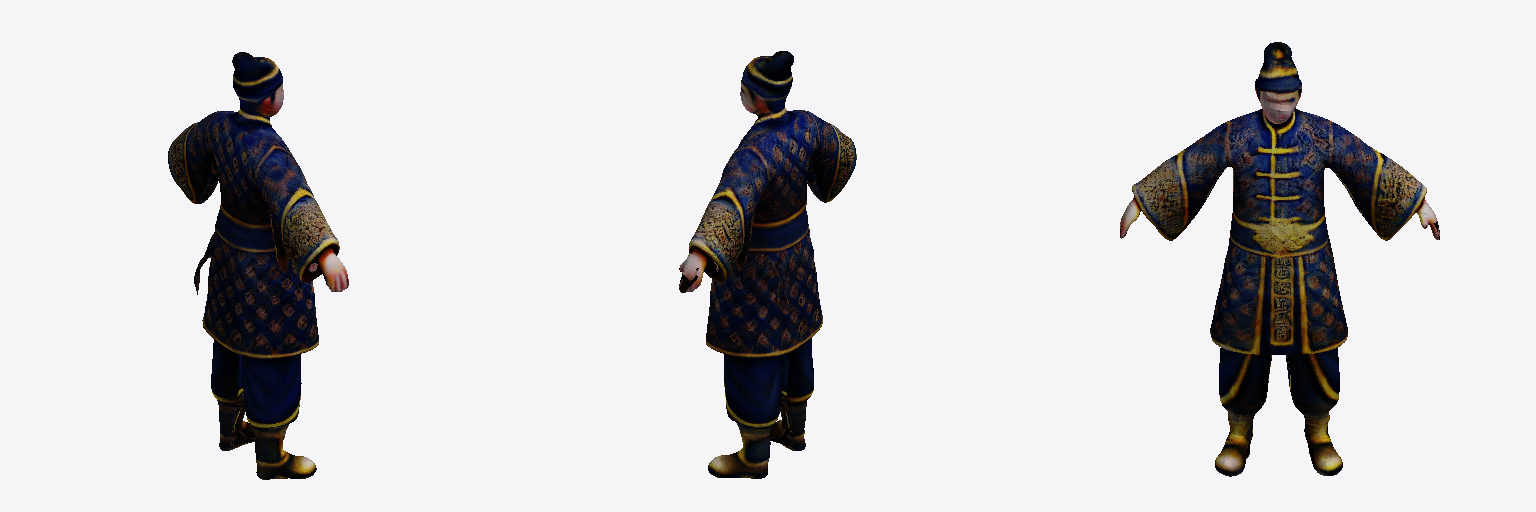
The picture shows the model from 3 angles: view 1: azimuth 30°, elevation 25°; view 2: azimuth 150°, elevation 25°; view 3: azimuth 270°, elevation 25°; orthographic projection.
Parts seen in each view (by area): view 1: mesh; view 2: mesh; view 3: mesh.
Boxes of the visible parts, box(x1,y1,x2,y2) form: mesh: box(168, 52, 348, 479); mesh: box(679, 51, 856, 478); mesh: box(1120, 42, 1439, 476).
Size of the model in its own units: 0.2299 by 0.9996 by 0.7051.
1 materials, 1 textured.